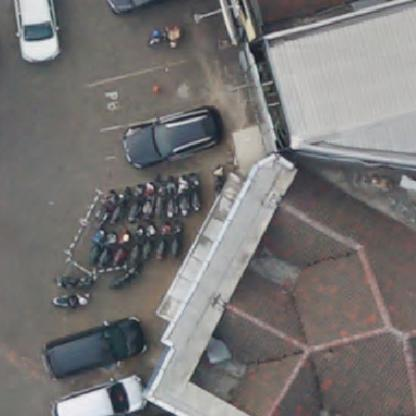Car: (119, 103, 224, 164), (44, 316, 146, 374), (53, 378, 150, 415), (11, 0, 64, 65), (104, 1, 159, 17)
Motorcycle: (110, 267, 140, 288), (55, 274, 95, 289), (51, 292, 87, 308), (128, 184, 142, 223), (100, 190, 115, 224), (129, 229, 143, 263), (169, 224, 182, 258), (178, 180, 190, 216), (114, 188, 126, 224), (188, 177, 200, 210), (91, 229, 103, 260), (165, 180, 175, 216), (143, 182, 153, 218), (154, 182, 164, 218), (103, 234, 114, 266), (118, 234, 128, 266), (156, 226, 166, 257), (144, 226, 152, 260)
